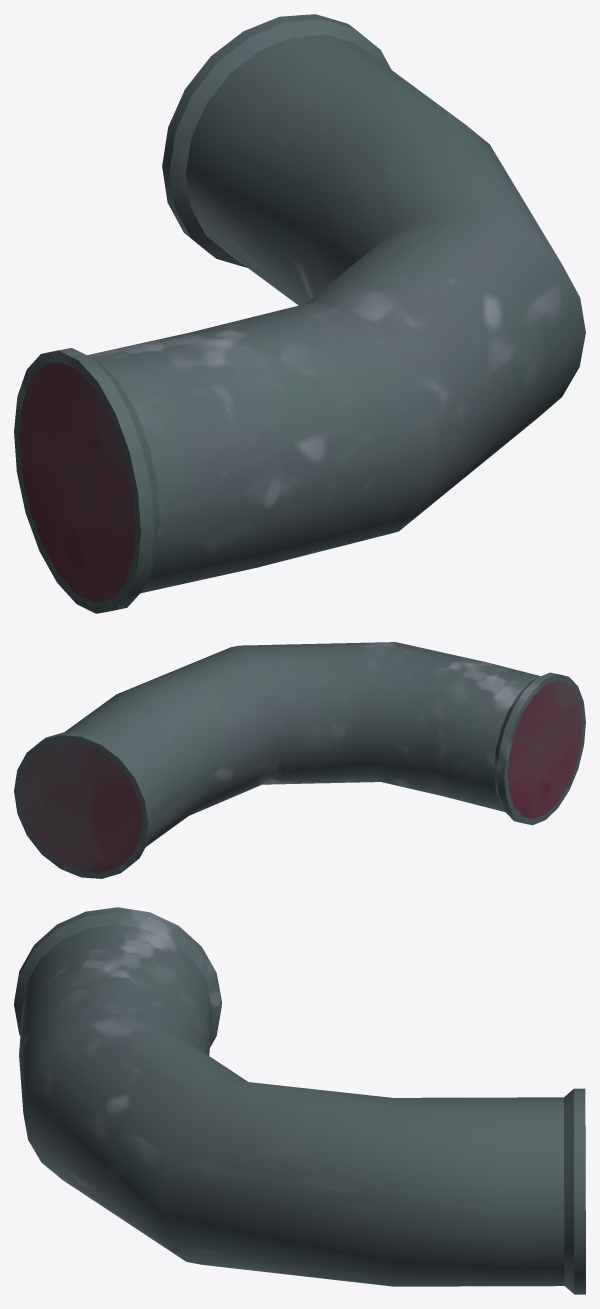
File: Quarter_Curved_Pipe.fbx
The picture shows the model from 3 angles, top to bottom: view 1: azimuth 30°, elevation 25°; view 2: azimuth 150°, elevation 25°; view 3: azimuth 270°, elevation 25°; orthographic projection. The views are drawn at different scales.
Visible parts, largest first — view 1: QuarterCurvedpipe; view 2: QuarterCurvedpipe; view 3: QuarterCurvedpipe.
Part boxes in pixels (bbox=[...]): QuarterCurvedpipe: bbox=[14, 14, 585, 613]; QuarterCurvedpipe: bbox=[14, 642, 585, 878]; QuarterCurvedpipe: bbox=[14, 907, 585, 1294].
Bounding box in the file's own units: 110 × 41.23 × 113.
